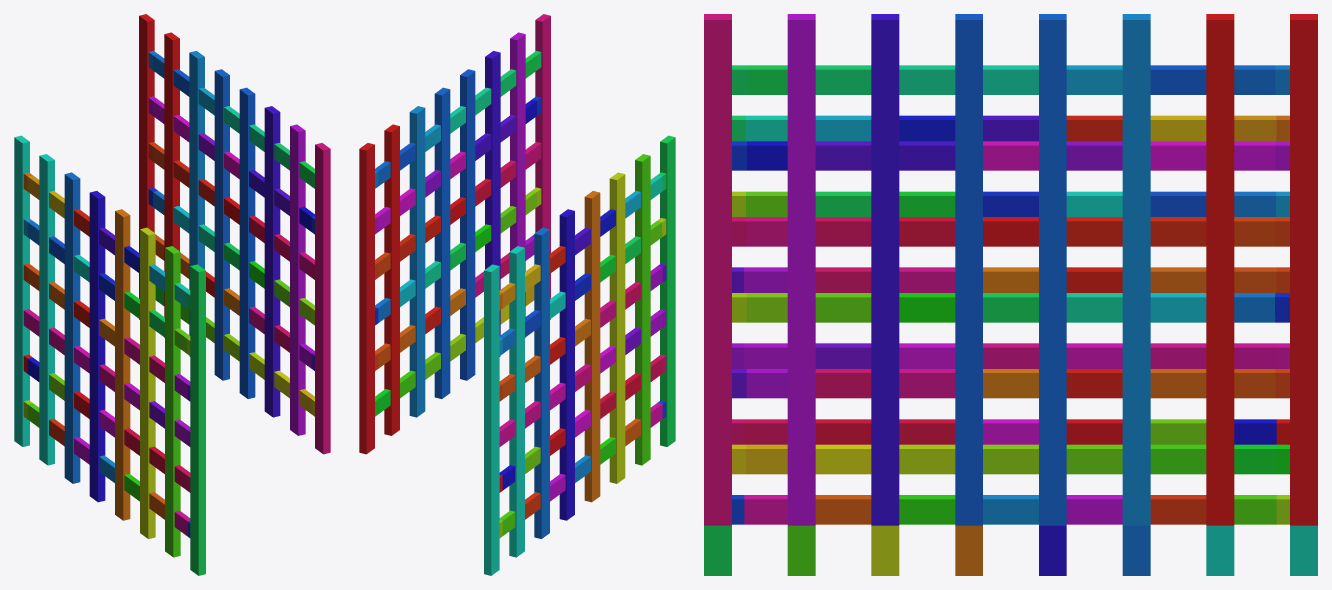
The model's file is Structure_Tower_Knight_Human_04_01_debris_cells_grid.fbx.
3 renders of one model, left to right at view 1: azimuth 30°, elevation 25°; view 2: azimuth 150°, elevation 25°; view 3: azimuth 270°, elevation 25°, orthographic. The views are drawn at different scales.
Parts seen in each view (by area): view 1: Structure_Tower_Knight_Human_04_01_Grid; view 2: Structure_Tower_Knight_Human_04_01_Grid; view 3: Structure_Tower_Knight_Human_04_01_Grid.
Part boxes in pixels (x1,y1,x2,y2): Structure_Tower_Knight_Human_04_01_Grid: (14, 14, 330, 575); Structure_Tower_Knight_Human_04_01_Grid: (359, 14, 675, 575); Structure_Tower_Knight_Human_04_01_Grid: (704, 14, 1317, 575).
Bounding box in the file's own units: 91 × 260 × 220.
